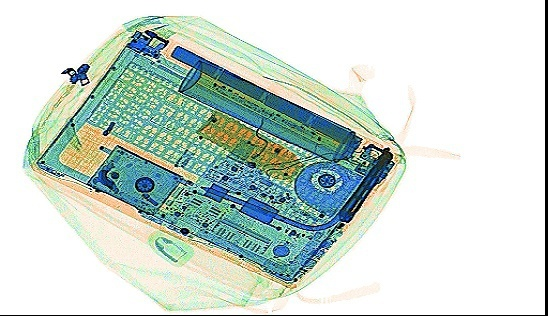knife: (336, 145, 394, 223)
pressure: (176, 58, 364, 164), (193, 107, 313, 191)
